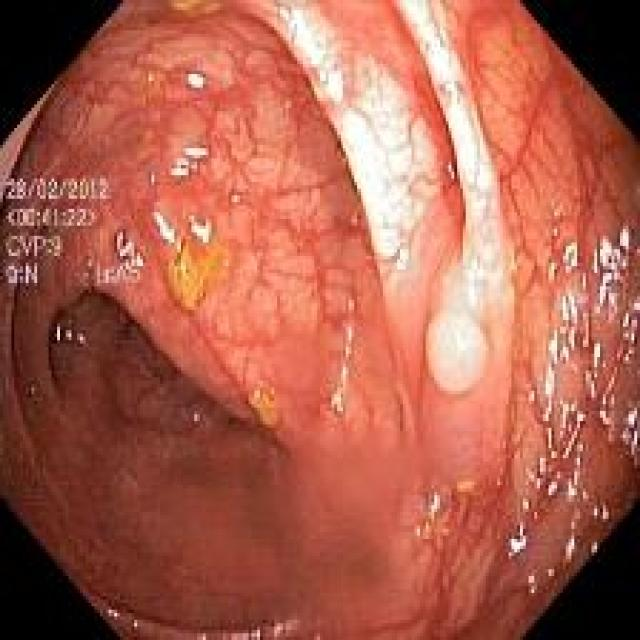Polyps: (426, 311, 490, 394)
